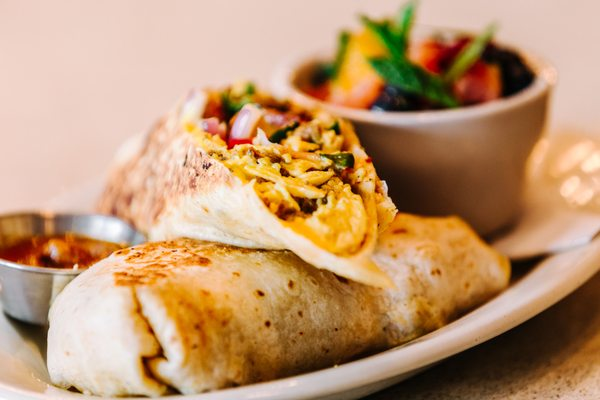soup: (26, 74, 517, 393)
sushi: (274, 2, 559, 237), (0, 211, 139, 327)
